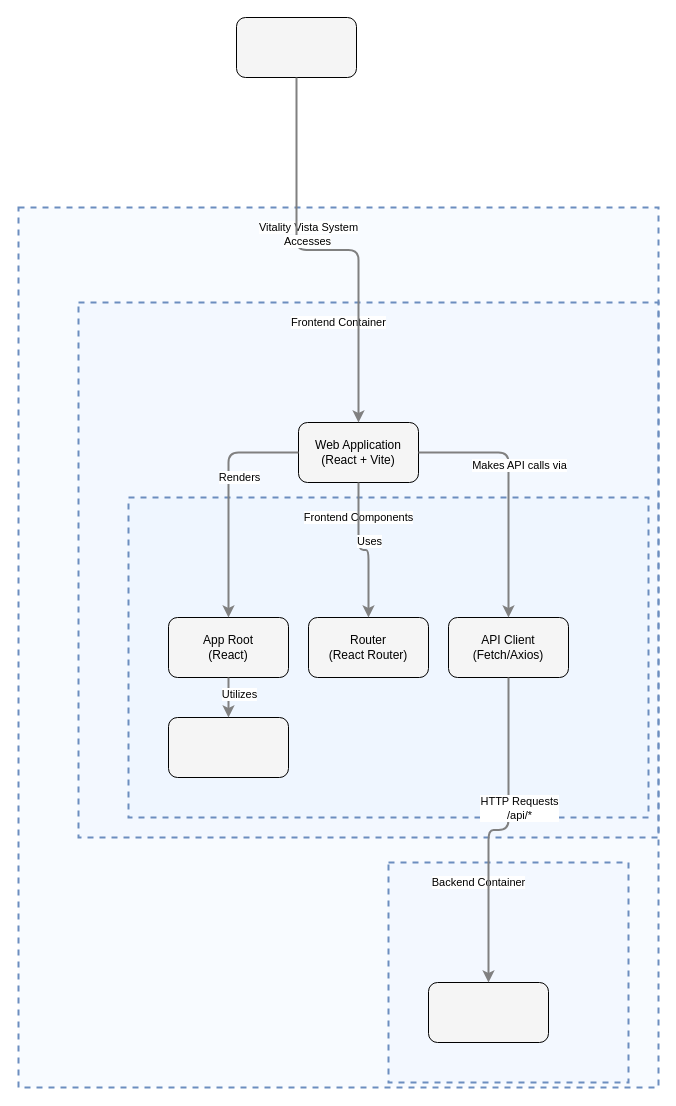
Image size: 676x1106. Some labels were removed from this diagram. Here are the shapes that lost their labels. From the top down, the box of each, then its label:
(236, 16, 356, 78): User
(168, 716, 288, 778): UI Layer (Material UI + Tailwind)
(428, 982, 548, 1042): API Server (Port 8000)
